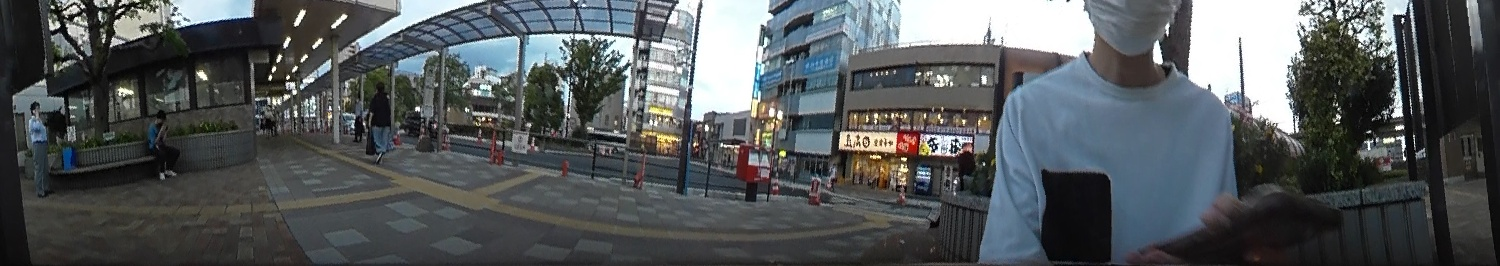difficult_person: (348, 92, 364, 142), (259, 99, 275, 136), (825, 162, 841, 191)
person: (21, 96, 57, 197), (930, 150, 980, 222), (143, 105, 184, 185), (365, 80, 398, 164)
